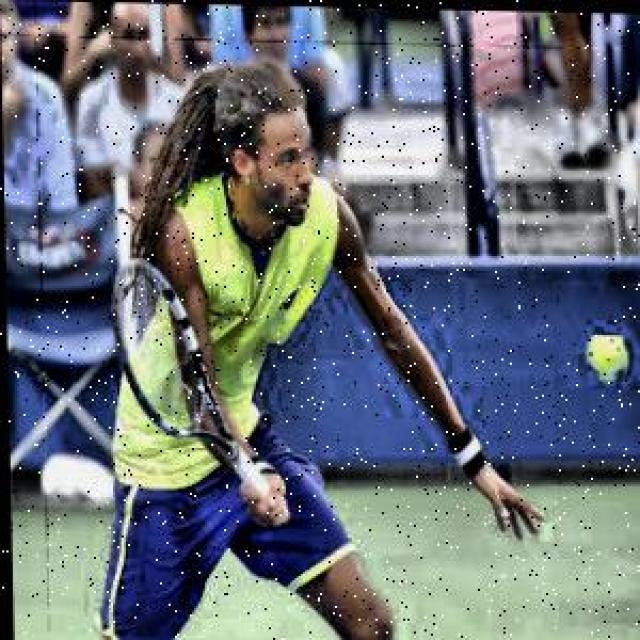tennis-ball: (586, 334, 626, 379)
